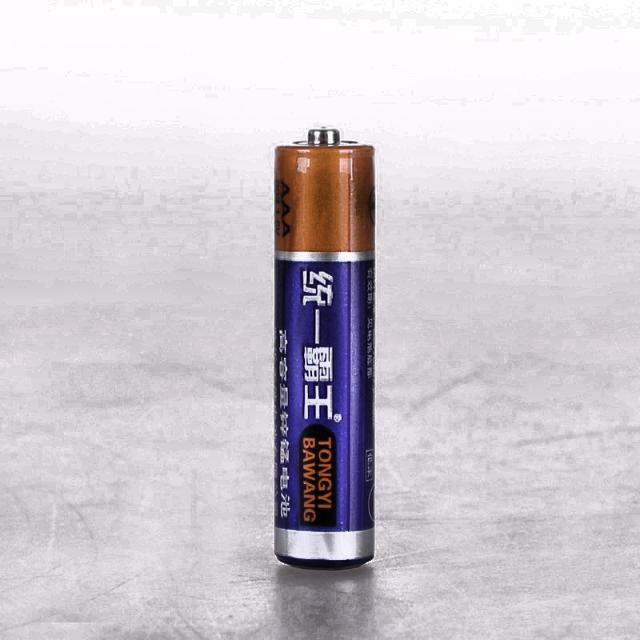Non-Valuable Waste - Batteries: (275, 129, 374, 568)
